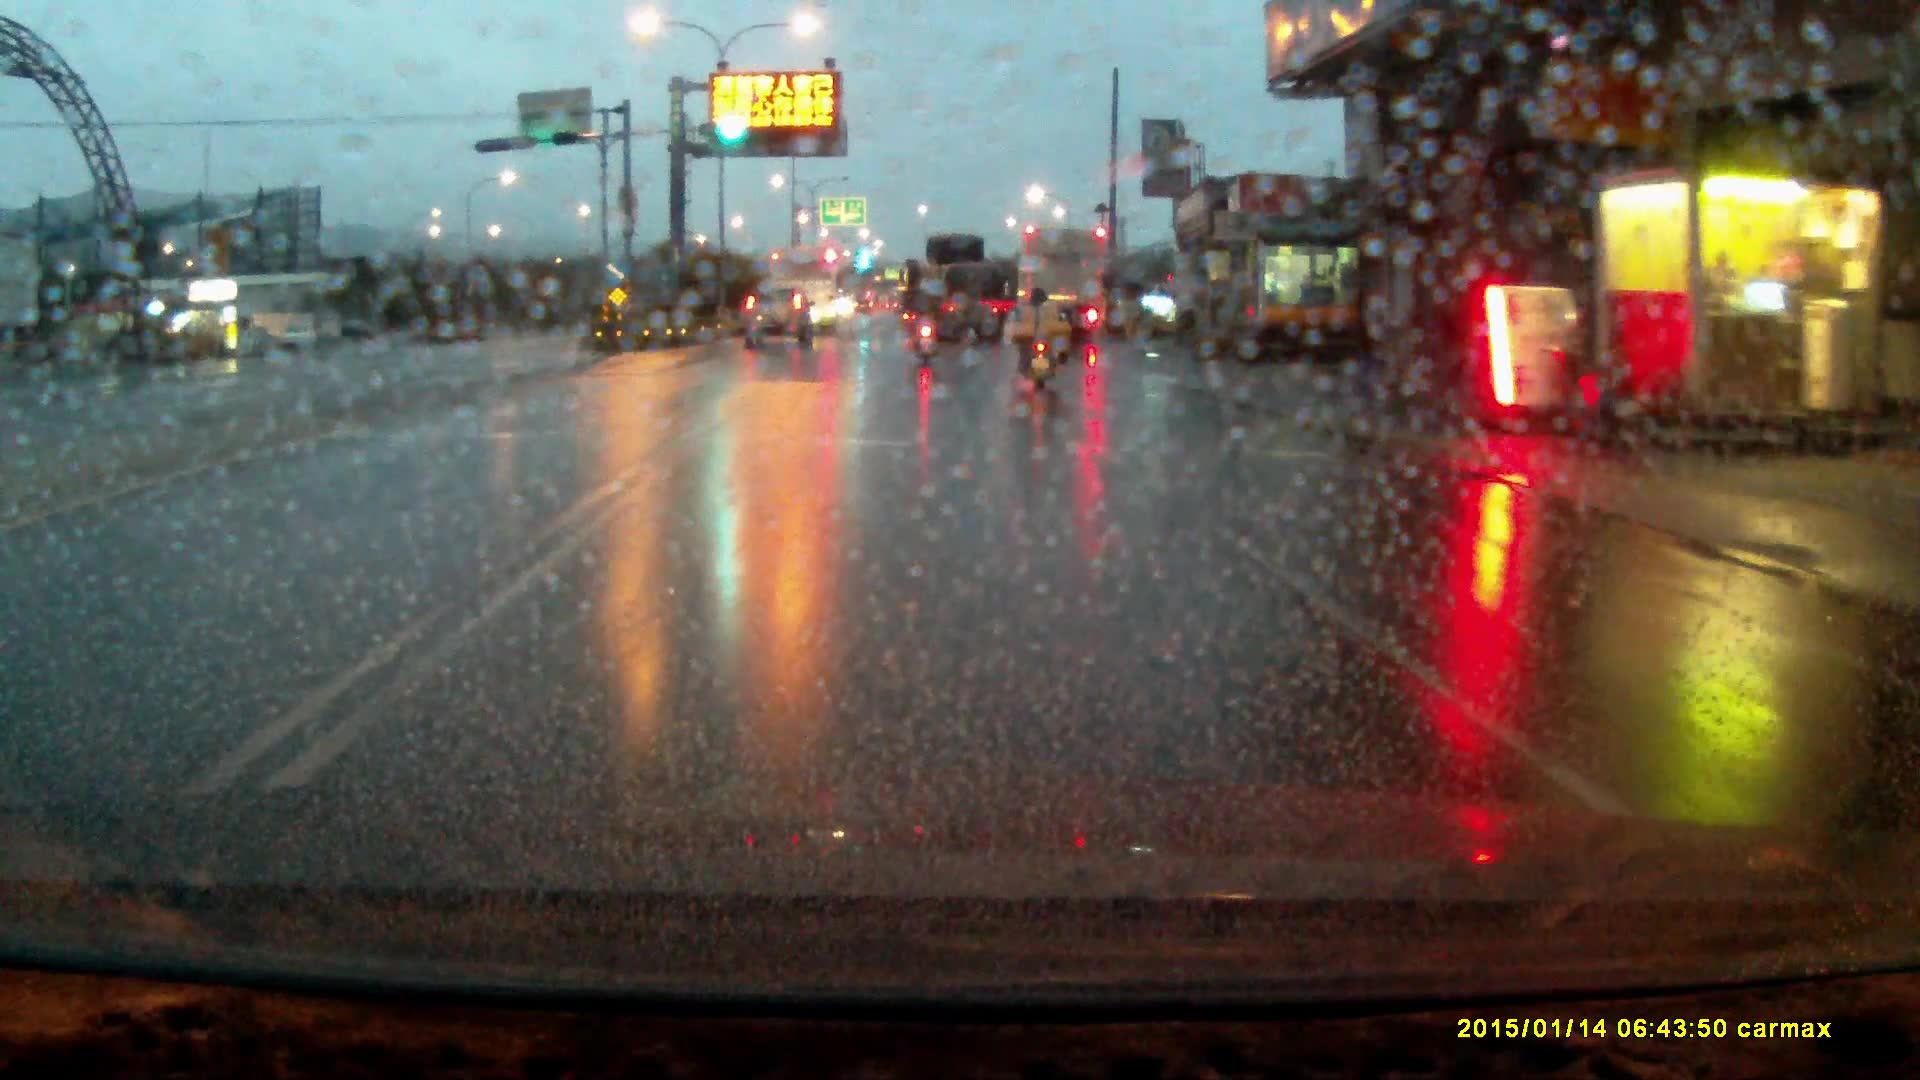rider: (1018, 287, 1062, 398), (907, 282, 941, 366)
vehicle: (912, 236, 1008, 347), (1020, 228, 1109, 344), (766, 247, 839, 336), (742, 284, 813, 349)
